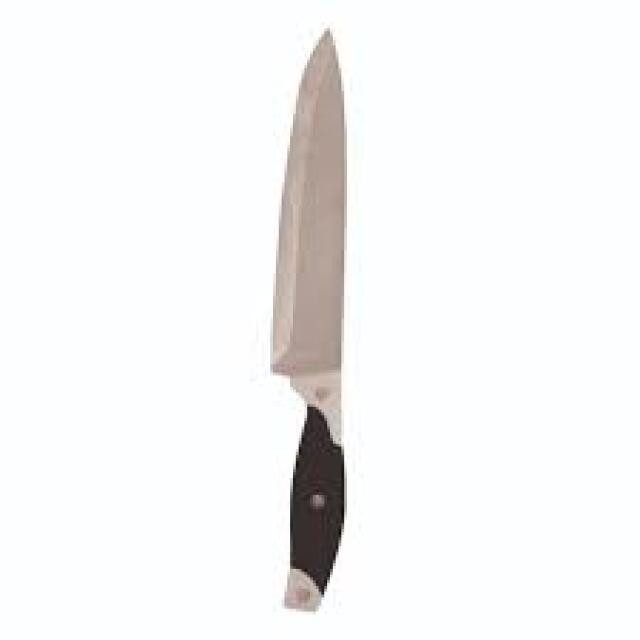Knife: (267, 26, 347, 612)
